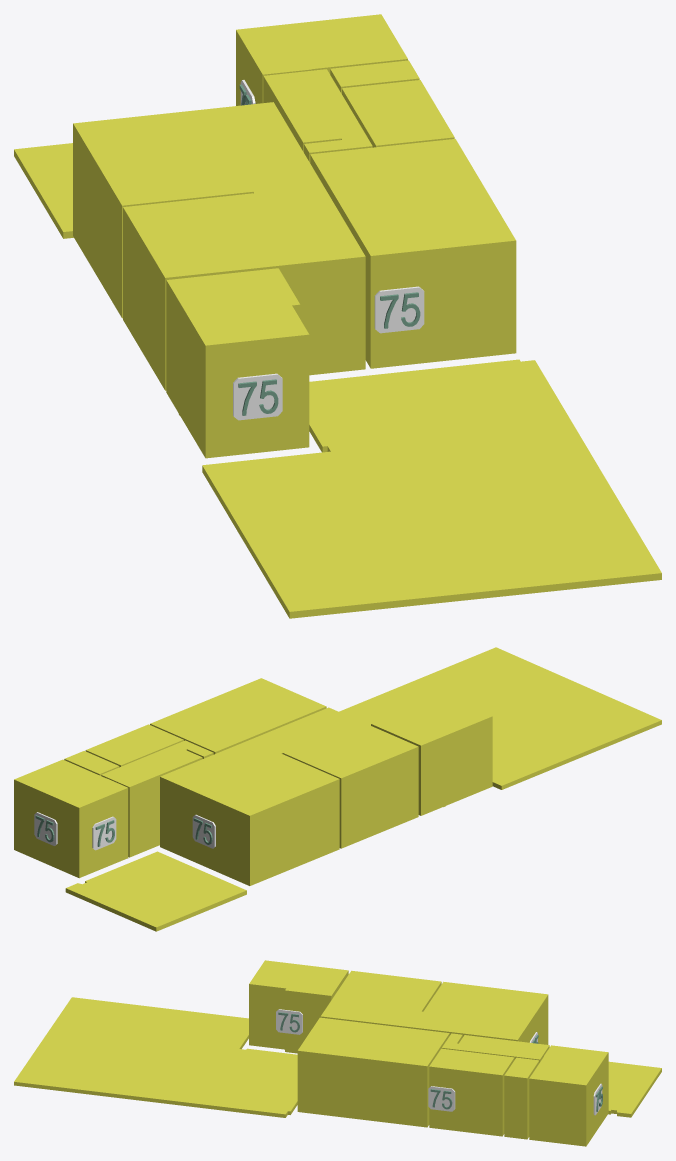
3 renders of one model, top to bottom at view 1: azimuth 30°, elevation 25°; view 2: azimuth 150°, elevation 25°; view 3: azimuth 270°, elevation 25°, orthographic. The views are drawn at different scales.
Visible parts, largest first — view 1: g_8, g_1, g_6, g_7, g_0, g_2, g_3, g_4, g_9, g_5, g_18, g_12; view 2: g_7, g_8, g_6, g_2, g_0, g_9, g_1, g_3, g_4, g_5, g_27, g_21 (+1 smaller); view 3: g_8, g_1, g_2, g_7, g_0, g_4, g_6, g_9, g_5, g_3, g_24, g_15.
Boxes of the visible parts, x1=… form: g_8: x1=202, y1=359, x2=661, y2=618; g_1: x1=310, y1=139, x2=516, y2=368; g_6: x1=123, y1=184, x2=365, y2=390; g_7: x1=73, y1=102, x2=322, y2=318; g_0: x1=166, y1=268, x2=309, y2=458; g_2: x1=236, y1=14, x2=407, y2=105; g_3: x1=263, y1=69, x2=372, y2=162; g_4: x1=342, y1=80, x2=454, y2=147; g_9: x1=14, y1=143, x2=73, y2=238; g_5: x1=330, y1=60, x2=419, y2=93; g_18: x1=374, y1=286, x2=424, y2=333; g_12: x1=233, y1=373, x2=282, y2=420; g_7: x1=160, y1=740, x2=339, y2=885; g_8: x1=339, y1=647, x2=661, y2=789; g_6: x1=250, y1=707, x2=418, y2=848; g_2: x1=14, y1=759, x2=128, y2=878; g_0: x1=371, y1=696, x2=492, y2=815; g_9: x1=65, y1=851, x2=246, y2=931; g_1: x1=150, y1=678, x2=326, y2=754; g_3: x1=101, y1=740, x2=213, y2=857; g_4: x1=85, y1=724, x2=183, y2=767; g_5: x1=64, y1=751, x2=119, y2=775; g_27: x1=92, y1=816, x2=116, y2=850; g_21: x1=34, y1=812, x2=57, y2=845; g_8: x1=14, y1=997, x2=297, y2=1117; g_1: x1=297, y1=1017, x2=449, y2=1127; g_2: x1=529, y1=1045, x2=608, y2=1146; g_7: x1=412, y1=981, x2=548, y2=1044; g_0: x1=249, y1=960, x2=348, y2=1053; g_4: x1=429, y1=1048, x2=514, y2=1136; g_6: x1=320, y1=970, x2=441, y2=1028; g_9: x1=608, y1=1061, x2=661, y2=1117; g_5: x1=504, y1=1057, x2=539, y2=1139; g_3: x1=441, y1=1033, x2=549, y2=1062; g_24: x1=428, y1=1086, x2=455, y2=1111; g_15: x1=276, y1=1009, x2=302, y2=1034.
Bounding box in the file's own units: 13.03 × 2.65 × 23.82.
